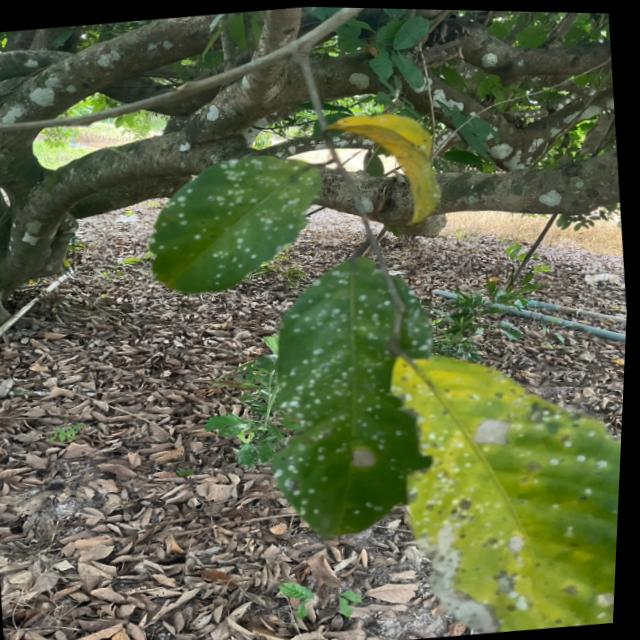Algal Leaf Spot: (445, 344, 628, 616), (285, 275, 457, 539), (176, 148, 329, 281)
